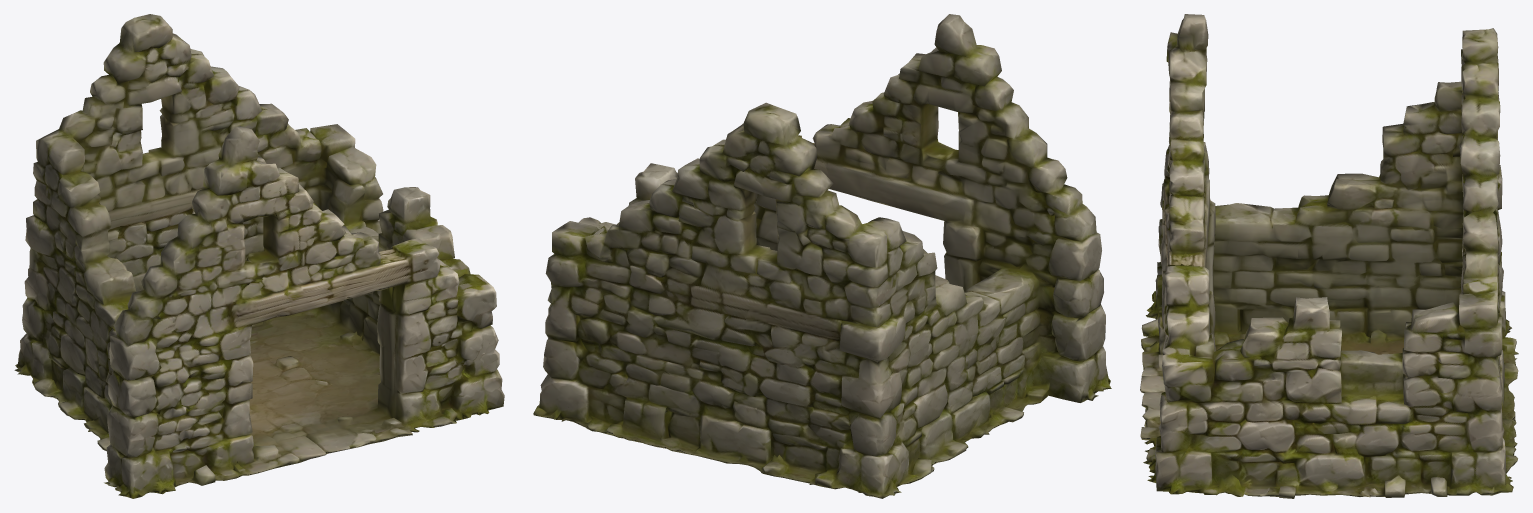
Rendered from ruined_barn_tripo.glb.
3 renders of one model, left to right at view 1: azimuth 30°, elevation 25°; view 2: azimuth 150°, elevation 25°; view 3: azimuth 270°, elevation 25°, orthographic. The views are drawn at different scales.
Visible parts, largest first — view 1: tripo_node_ef2a0b5e-69a7-41eb-880c-e6ec5a668c4b; view 2: tripo_node_ef2a0b5e-69a7-41eb-880c-e6ec5a668c4b; view 3: tripo_node_ef2a0b5e-69a7-41eb-880c-e6ec5a668c4b.
Boxes of the visible parts, x1=… form: tripo_node_ef2a0b5e-69a7-41eb-880c-e6ec5a668c4b: x1=14, y1=14, x2=504, y2=498; tripo_node_ef2a0b5e-69a7-41eb-880c-e6ec5a668c4b: x1=533, y1=14, x2=1111, y2=498; tripo_node_ef2a0b5e-69a7-41eb-880c-e6ec5a668c4b: x1=1140, y1=14, x2=1518, y2=498.
Size of the model in its own units: 1 by 0.7876 by 0.7698.
1 material, 1 textured.
